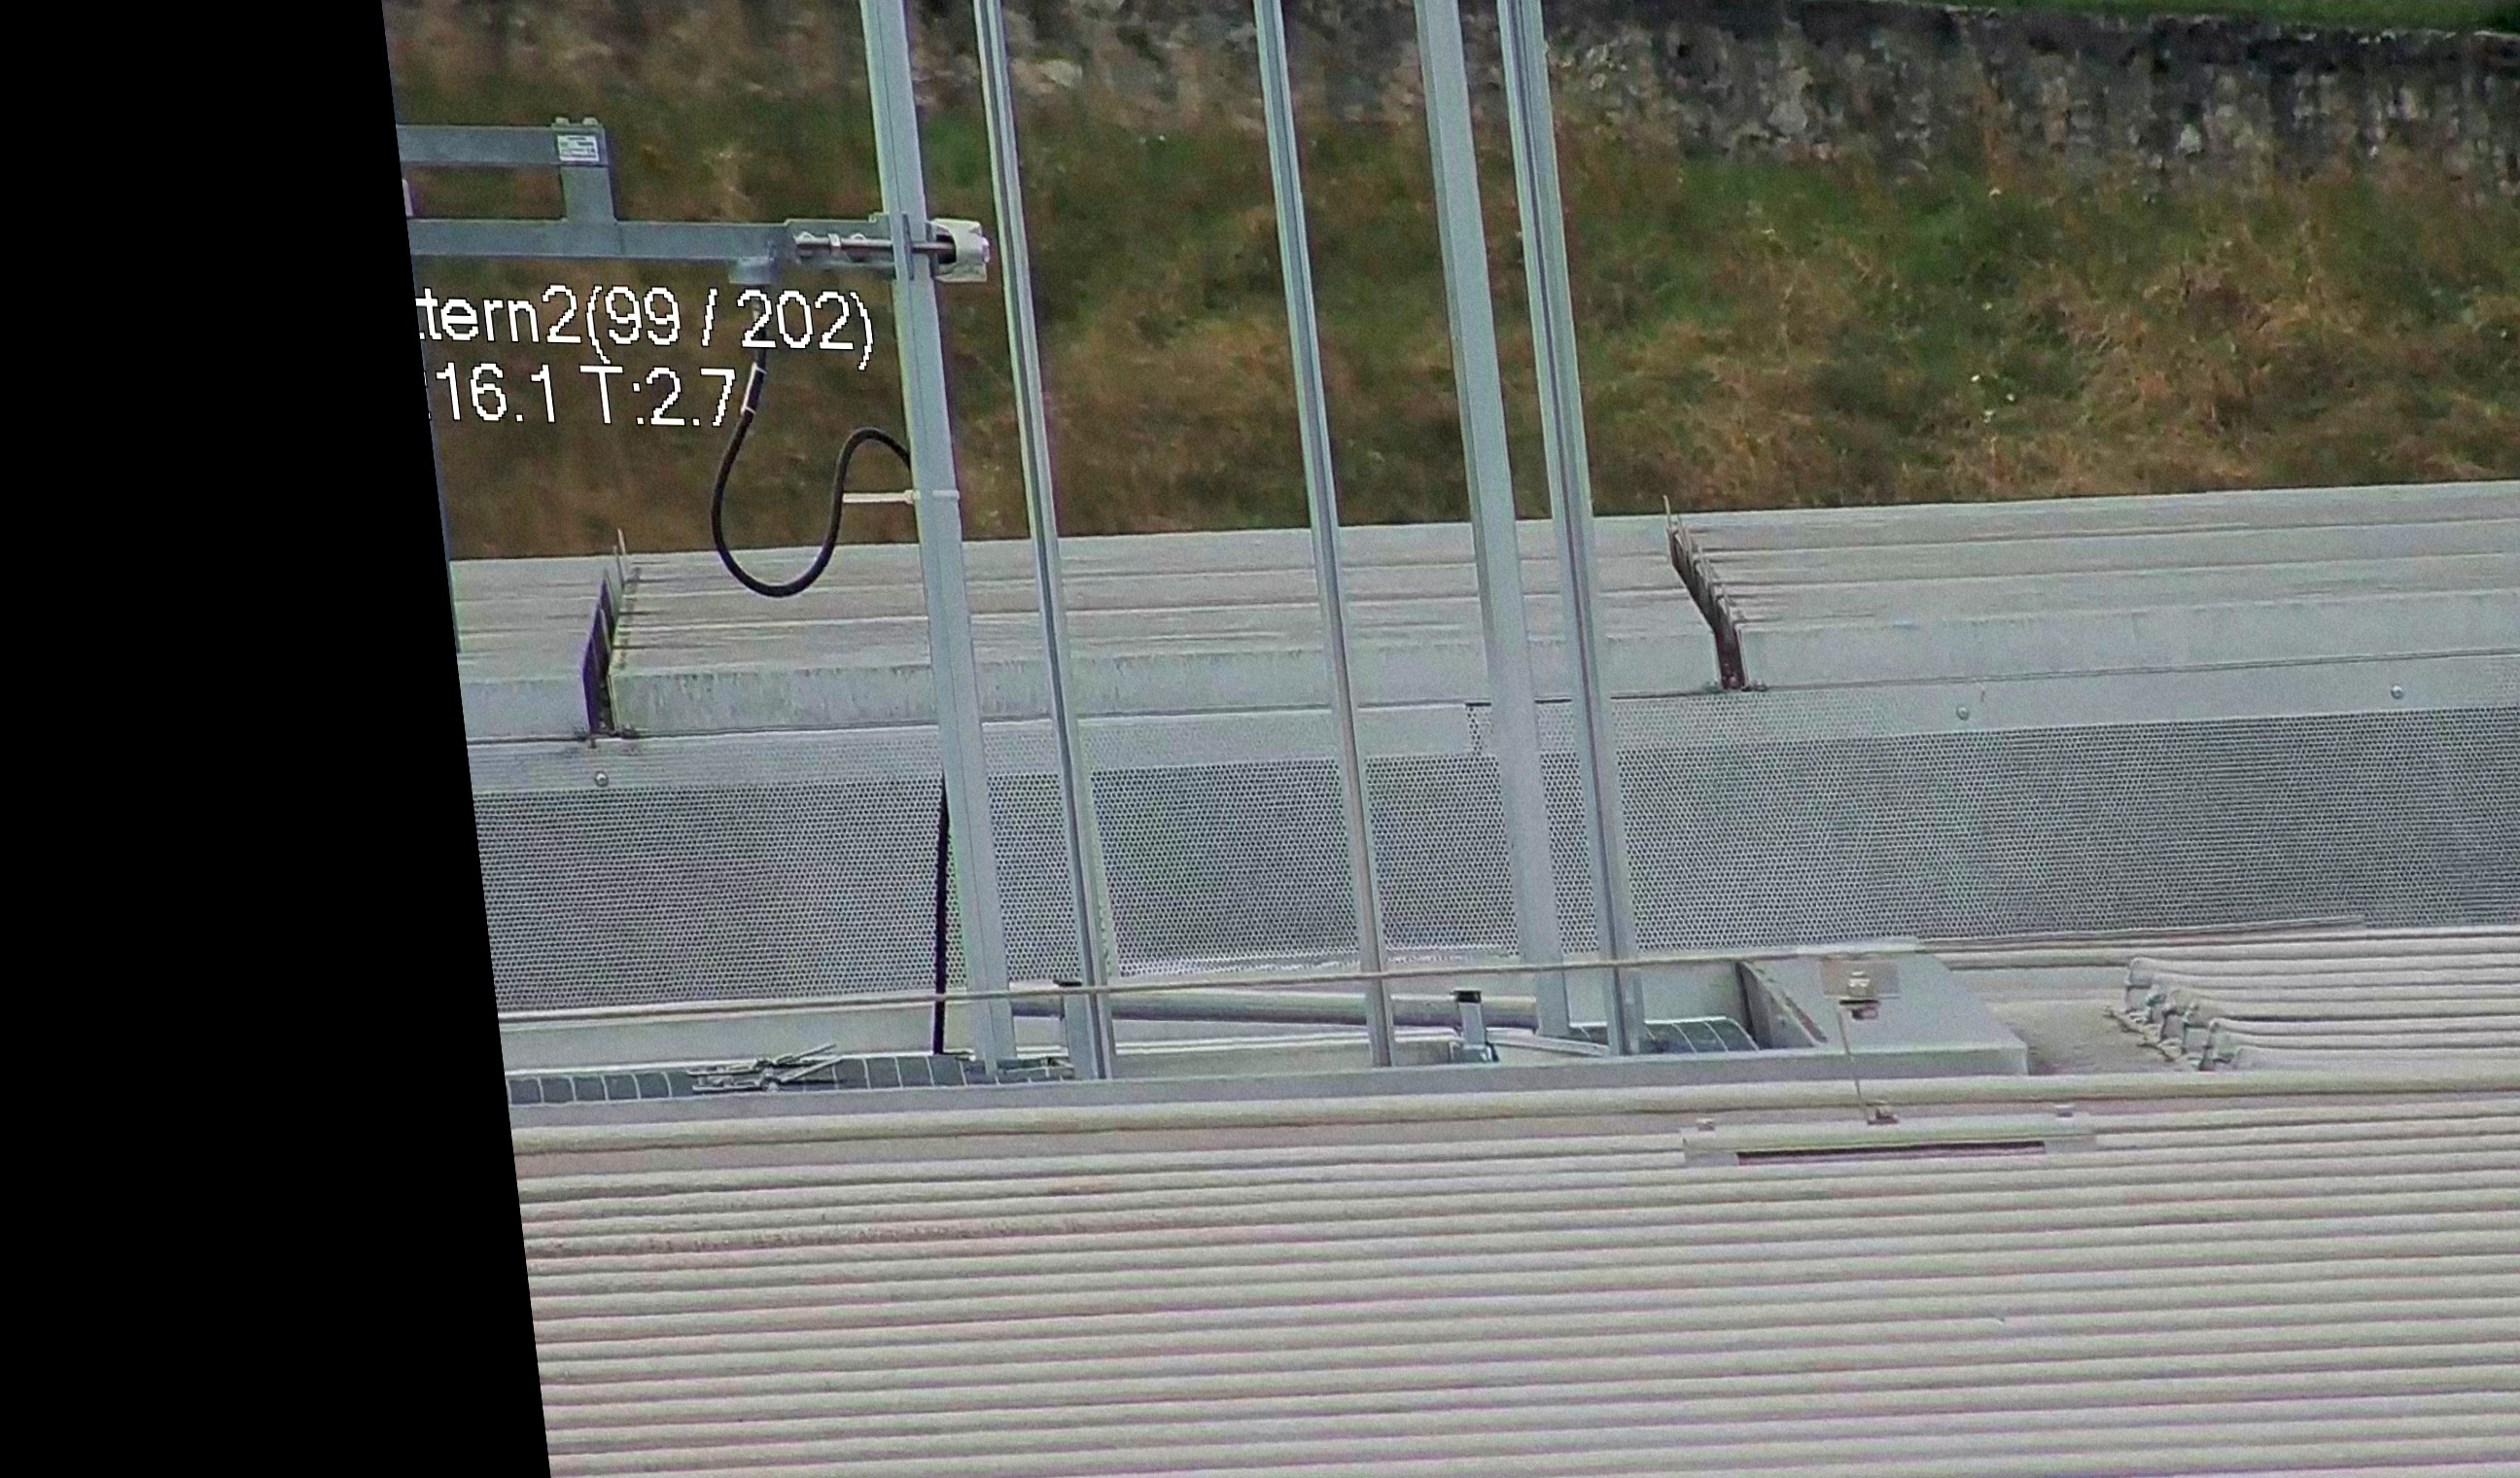Other: (1635, 487, 1776, 699)
